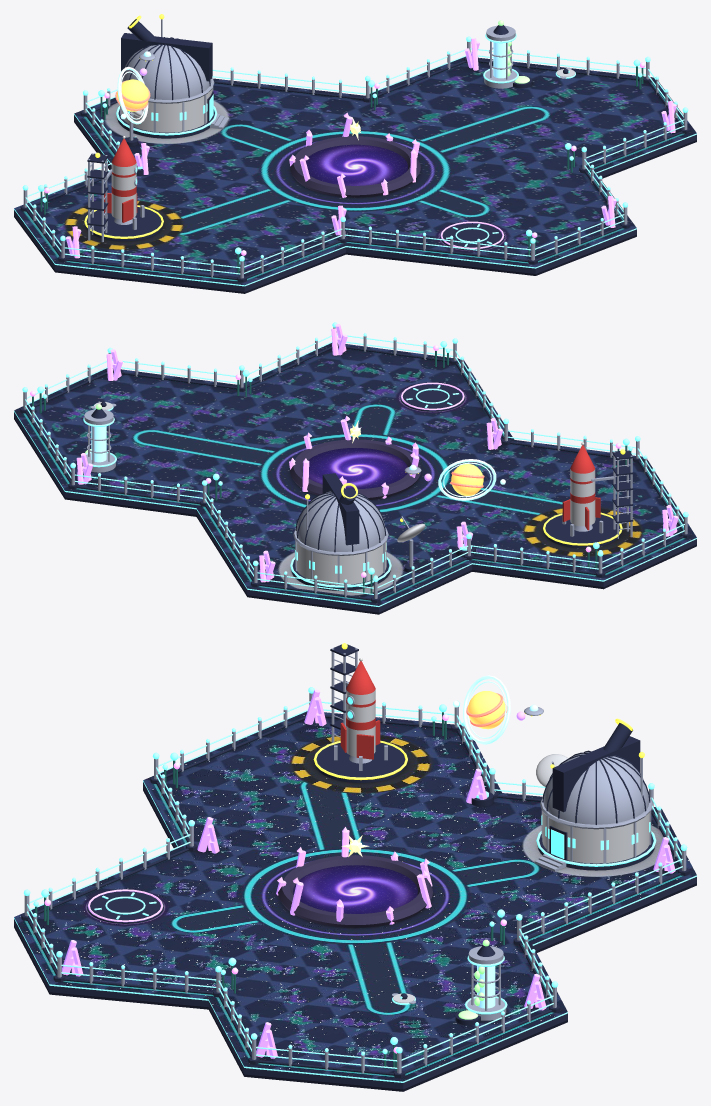
Rendered from field_stellar_zoo_01.glb.
3 views of the same model, one above another, from view 1: azimuth 30°, elevation 25°; view 2: azimuth 150°, elevation 25°; view 3: azimuth 270°, elevation 25° (orthographic). The views are drawn at different scales.
Parts seen in each view (by area): view 1: field_stellar_zoo_01-plate, field_stellar_zoo_01-dark-hull, field_stellar_zoo_01-nebula-swirl-galaxy, field_stellar_zoo_01-chrome, field_stellar_zoo_01-observatory-dome-chrome, field_stellar_zoo_01-crystal-violet, field_stellar_zoo_01-hull, field_stellar_zoo_01-crater-rock, field_stellar_zoo_01-observatory-dome-dark-hull, field_stellar_zoo_01-rim-joint-e10, field_stellar_zoo_01-rim-joint-e12, field_stellar_zoo_01-neon-cyan (+16 smaller); view 2: field_stellar_zoo_01-plate, field_stellar_zoo_01-dark-hull, field_stellar_zoo_01-crystal-violet, field_stellar_zoo_01-hull, field_stellar_zoo_01-observatory-dome-chrome, field_stellar_zoo_01-chrome, field_stellar_zoo_01-nebula-swirl-galaxy, field_stellar_zoo_01-crater-rock, field_stellar_zoo_01-observatory-dome-dark-hull, field_stellar_zoo_01-neon-cyan, field_stellar_zoo_01-rim-joint-e0, field_stellar_zoo_01-rim-joint-e4 (+17 smaller); view 3: field_stellar_zoo_01-plate, field_stellar_zoo_01-dark-hull, field_stellar_zoo_01-crystal-violet, field_stellar_zoo_01-nebula-swirl-galaxy, field_stellar_zoo_01-observatory-dome-chrome, field_stellar_zoo_01-chrome, field_stellar_zoo_01-hull, field_stellar_zoo_01-crater-rock, field_stellar_zoo_01-observatory-dome-dark-hull, field_stellar_zoo_01-neon-cyan, field_stellar_zoo_01-rim-joint-e3, field_stellar_zoo_01-rim-joint-e10 (+15 smaller).
Part boxes in pixels (box(x1,y1,x2,y2)): field_stellar_zoo_01-plate: box(14, 56, 696, 293); field_stellar_zoo_01-dark-hull: box(85, 25, 532, 250); field_stellar_zoo_01-nebula-swirl-galaxy: box(305, 144, 407, 185); field_stellar_zoo_01-chrome: box(88, 19, 516, 241); field_stellar_zoo_01-observatory-dome-chrome: box(123, 44, 211, 99); field_stellar_zoo_01-crystal-violet: box(66, 38, 676, 258); field_stellar_zoo_01-hull: box(111, 89, 212, 219); field_stellar_zoo_01-crater-rock: box(290, 136, 420, 197); field_stellar_zoo_01-observatory-dome-dark-hull: box(121, 19, 212, 100); field_stellar_zoo_01-rim-joint-e10: box(338, 216, 537, 264); field_stellar_zoo_01-rim-joint-e12: box(58, 235, 246, 282); field_stellar_zoo_01-neon-cyan: box(38, 33, 642, 264); field_stellar_zoo_01-plate: box(14, 343, 696, 614); field_stellar_zoo_01-dark-hull: box(83, 384, 633, 590); field_stellar_zoo_01-crystal-violet: box(76, 324, 678, 582); field_stellar_zoo_01-hull: box(295, 469, 595, 584); field_stellar_zoo_01-observatory-dome-chrome: box(296, 491, 385, 551); field_stellar_zoo_01-chrome: box(82, 409, 632, 585); field_stellar_zoo_01-nebula-swirl-galaxy: box(302, 448, 407, 489); field_stellar_zoo_01-crater-rock: box(290, 439, 420, 499); field_stellar_zoo_01-observatory-dome-dark-hull: box(295, 473, 386, 552); field_stellar_zoo_01-neon-cyan: box(37, 341, 632, 587); field_stellar_zoo_01-rim-joint-e0: box(464, 533, 605, 577); field_stellar_zoo_01-rim-joint-e4: box(68, 462, 207, 506); field_stellar_zoo_01-plate: box(14, 711, 696, 1091); field_stellar_zoo_01-dark-hull: box(87, 644, 654, 1025); field_stellar_zoo_01-crystal-violet: box(62, 689, 675, 1058); field_stellar_zoo_01-nebula-swirl-galaxy: box(293, 865, 417, 913); field_stellar_zoo_01-observatory-dome-chrome: box(543, 751, 649, 824); field_stellar_zoo_01-chrome: box(331, 648, 652, 1020); field_stellar_zoo_01-hull: box(346, 689, 649, 863); field_stellar_zoo_01-crater-rock: box(278, 855, 432, 927); field_stellar_zoo_01-observatory-dome-dark-hull: box(542, 723, 650, 824); field_stellar_zoo_01-neon-cyan: box(33, 697, 656, 1054); field_stellar_zoo_01-rim-joint-e3: box(513, 844, 689, 945); field_stellar_zoo_01-rim-joint-e10: box(21, 820, 197, 920).
Bounding box in the file's own units: 19.13 × 3.11 × 14.89.
Materials: 22 (2 with a texture image).
